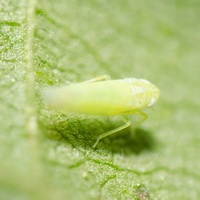insect: (43, 75, 159, 114)
